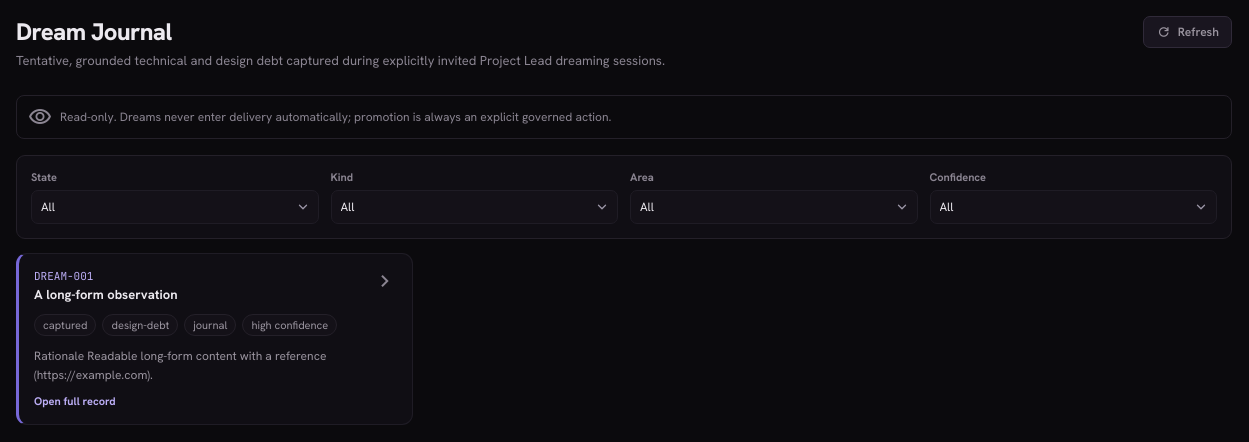
Test: DreamsView › renders compact scannable cards and filters them
Expected: the button with aria-label "Open DREAM-001" is shown, top-left (16, 252), bottom-right (413, 425)
Expected: the text "high confidence" is shown, top-left (242, 314), bottom-right (337, 336)
Select "low" in the dropdown named "Dream confidence" at point(1073, 206), box top-left (930, 190), bottom-right (1217, 224)
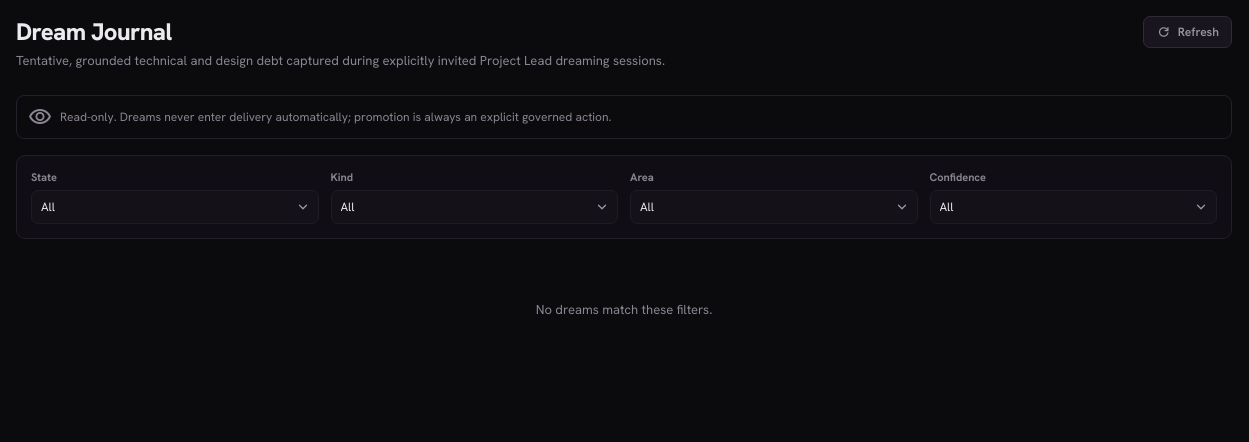
Now the text "No dreams match these filters." is shown, box top-left (536, 300), bottom-right (712, 318)
